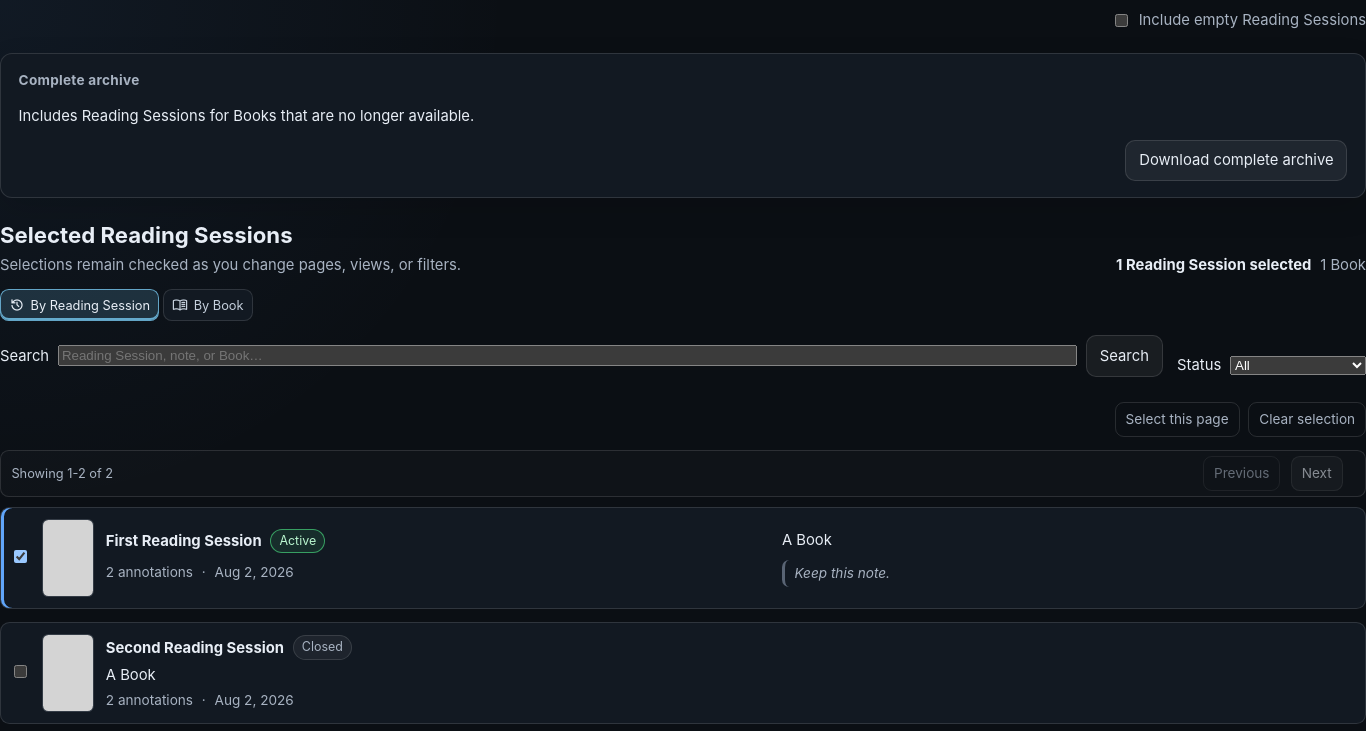
Test: Marginalia export selection views › preserves selection across views and presents the normal Reading Session note
Expected: the checkbox named "Select First Reading Session for A Book" is checked, left=14, top=550, right=27, bottom=563
Click the button "By Book": x=208, y=305 left=163, top=289, right=252, bottom=321
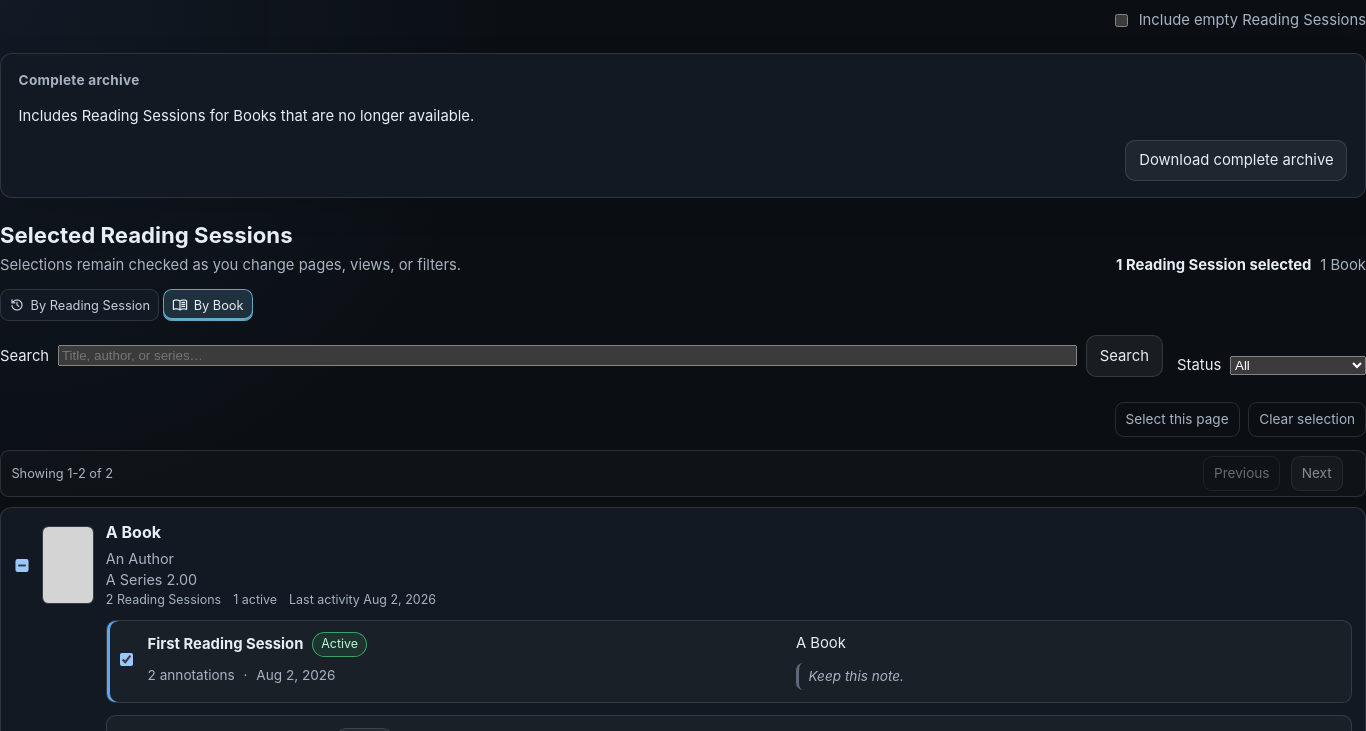
Expected: the checkbox named "Select First Reading Session for A Book" is checked, left=120, top=653, right=133, bottom=666
Click the button "By Reading Session": x=80, y=305 left=0, top=289, right=159, bottom=321
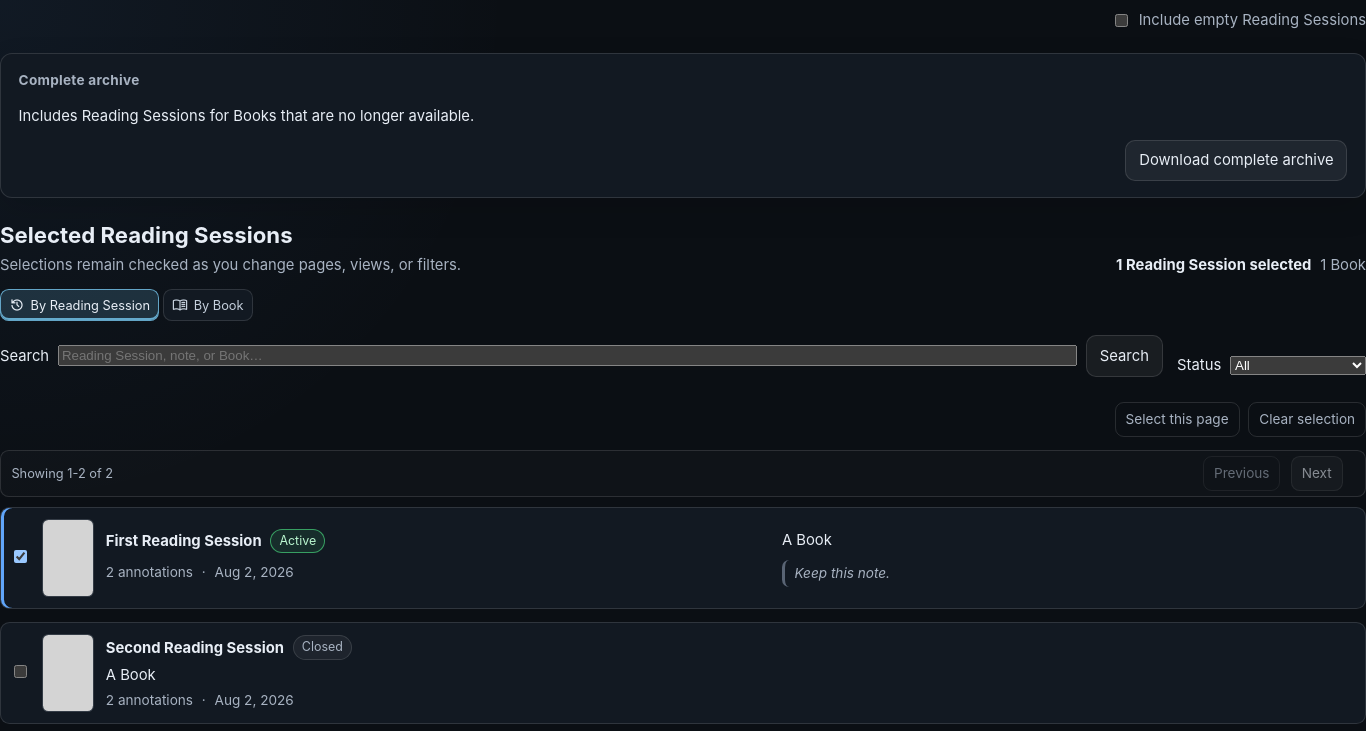
Result: the checkbox named "Select First Reading Session for A Book" is checked at left=14, top=550, right=27, bottom=563
